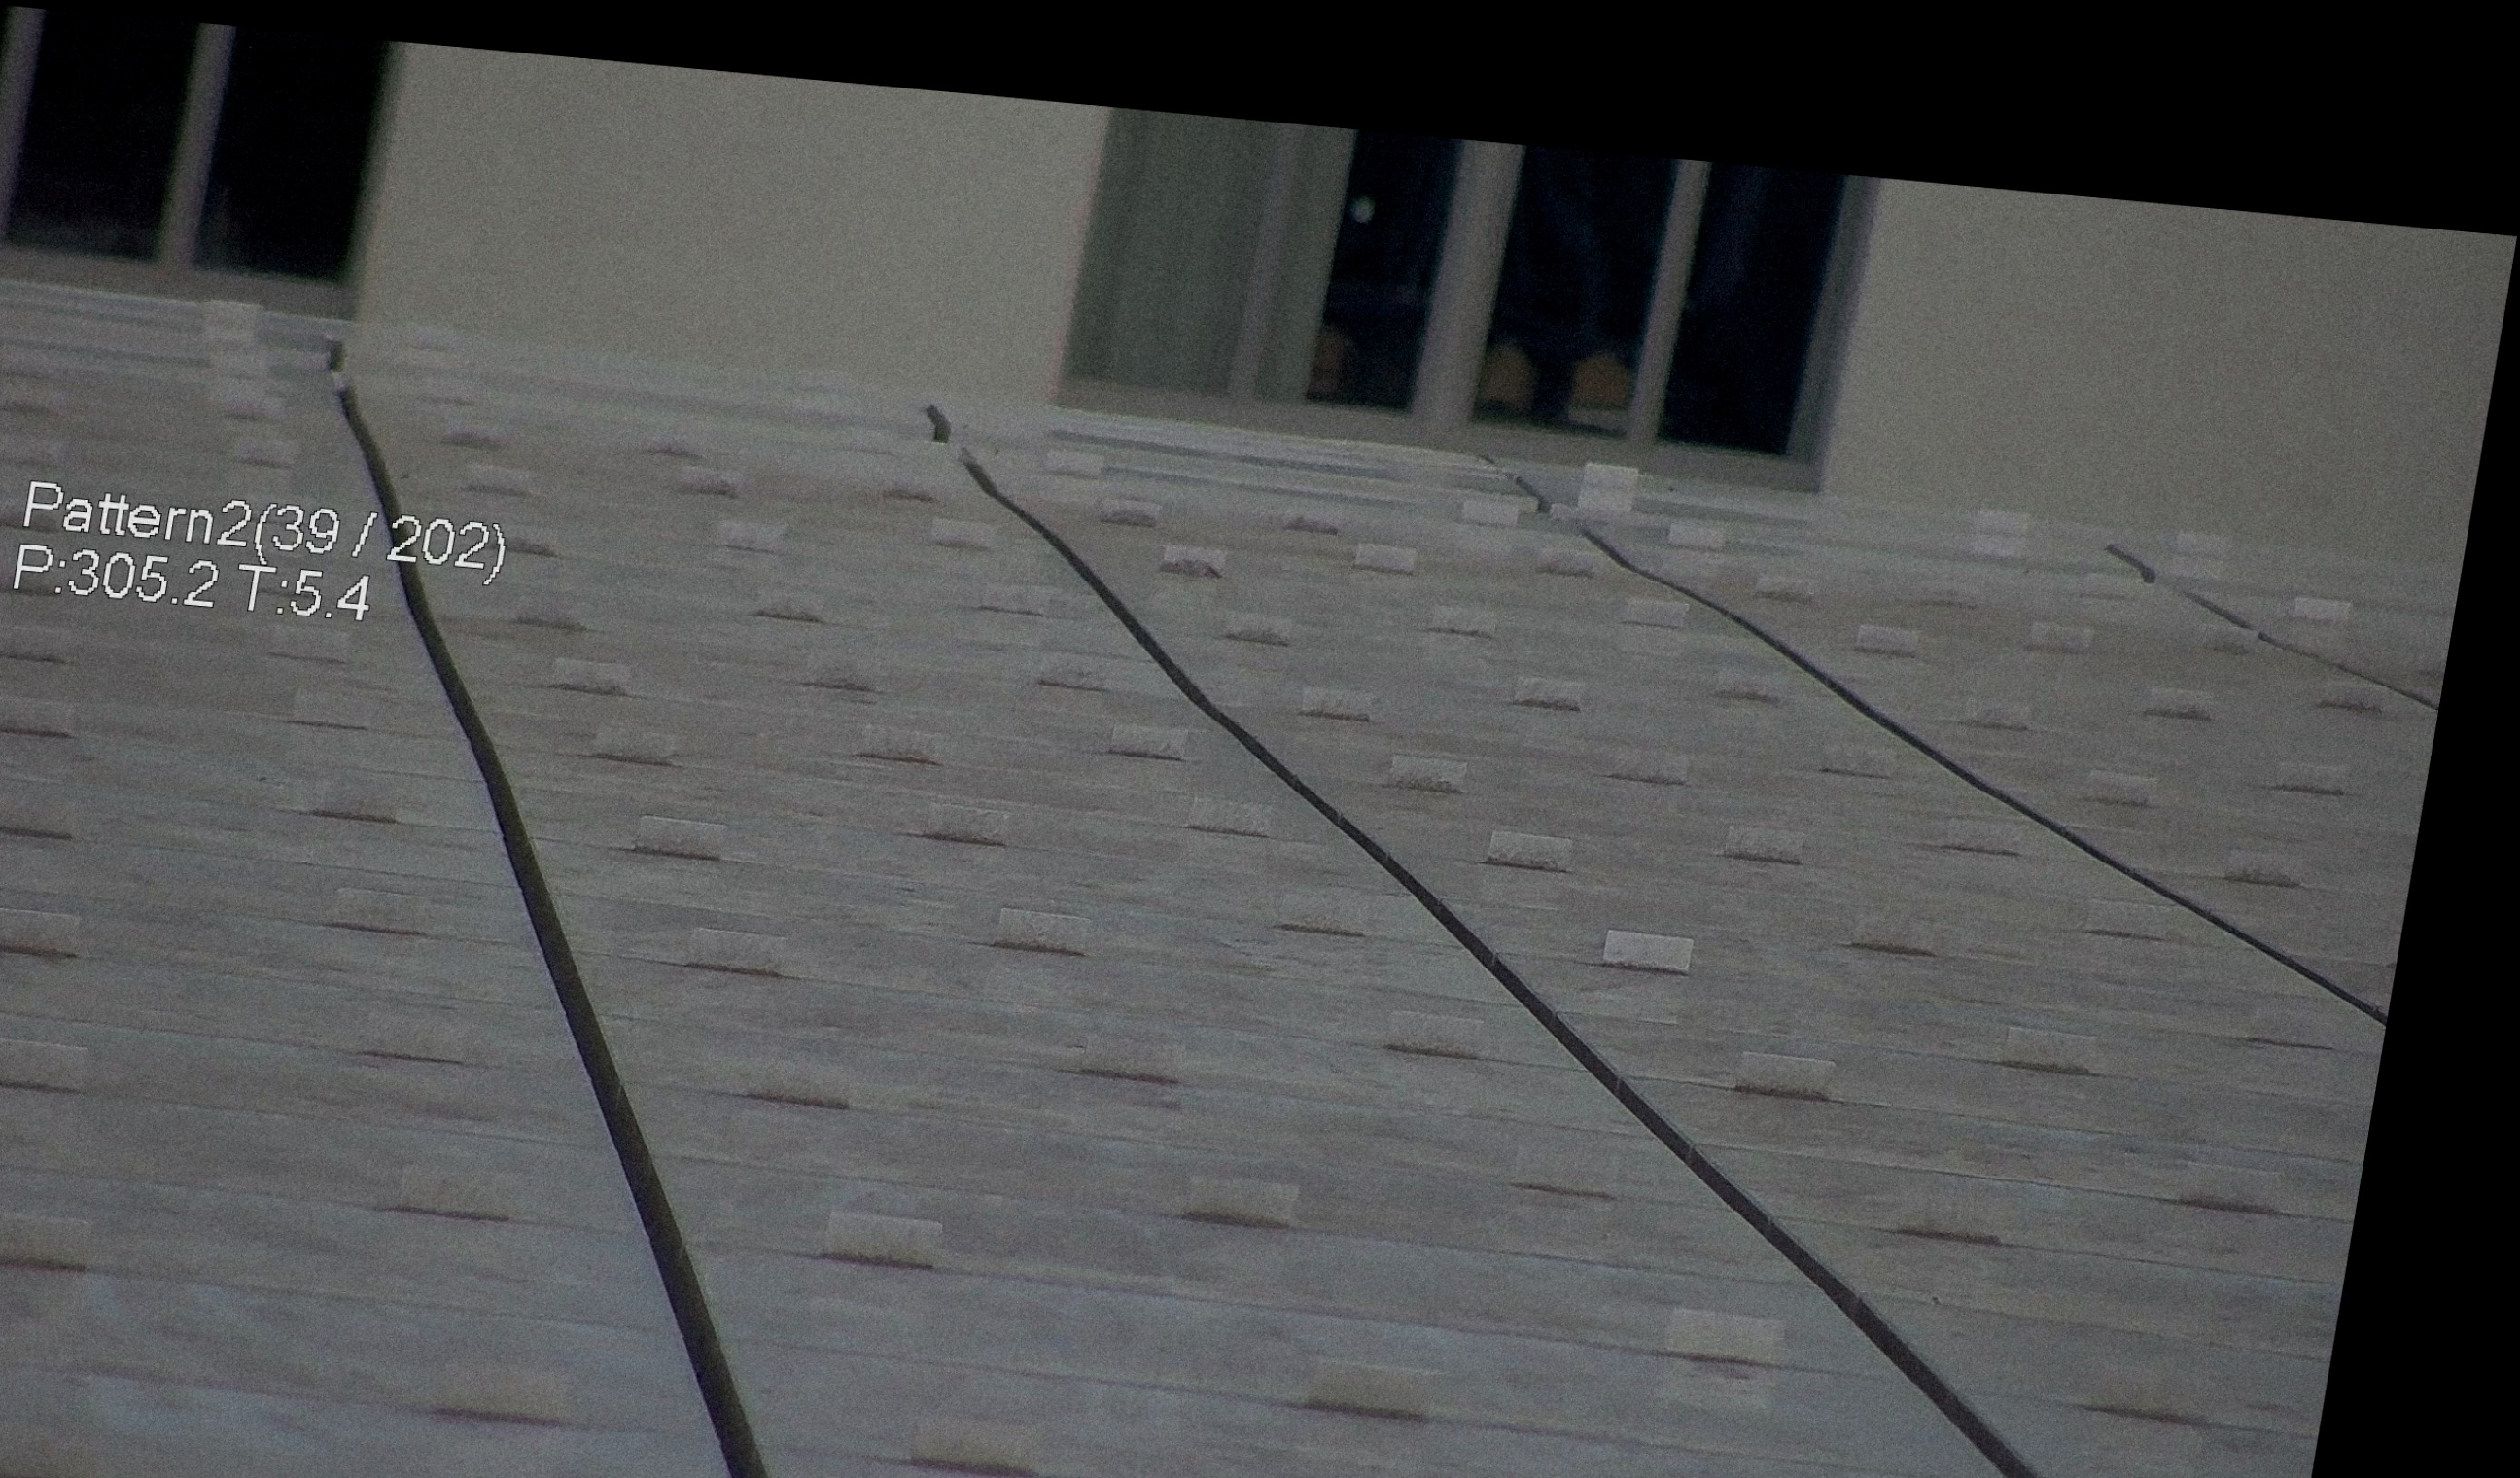Other: (262, 338, 426, 552)
